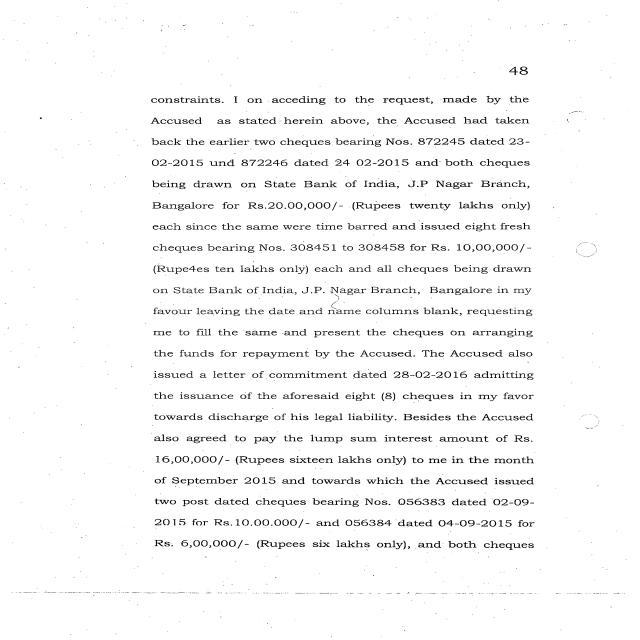page-number: (418, 18, 640, 88)
